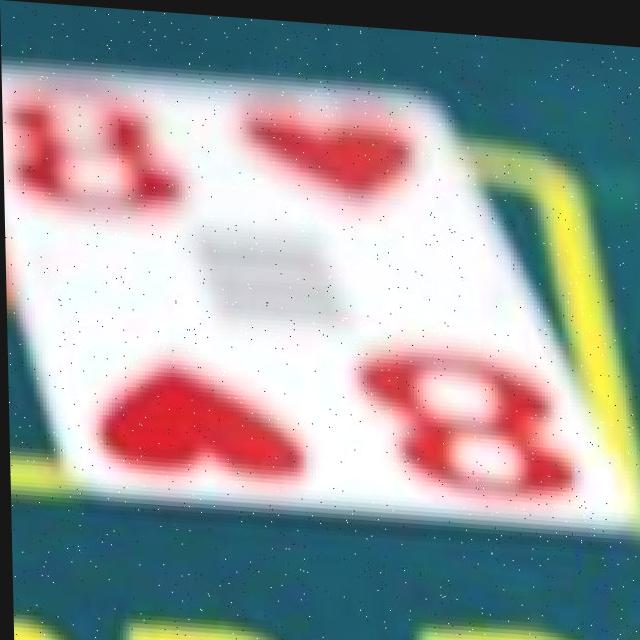Card-8: (2, 78, 636, 517)
